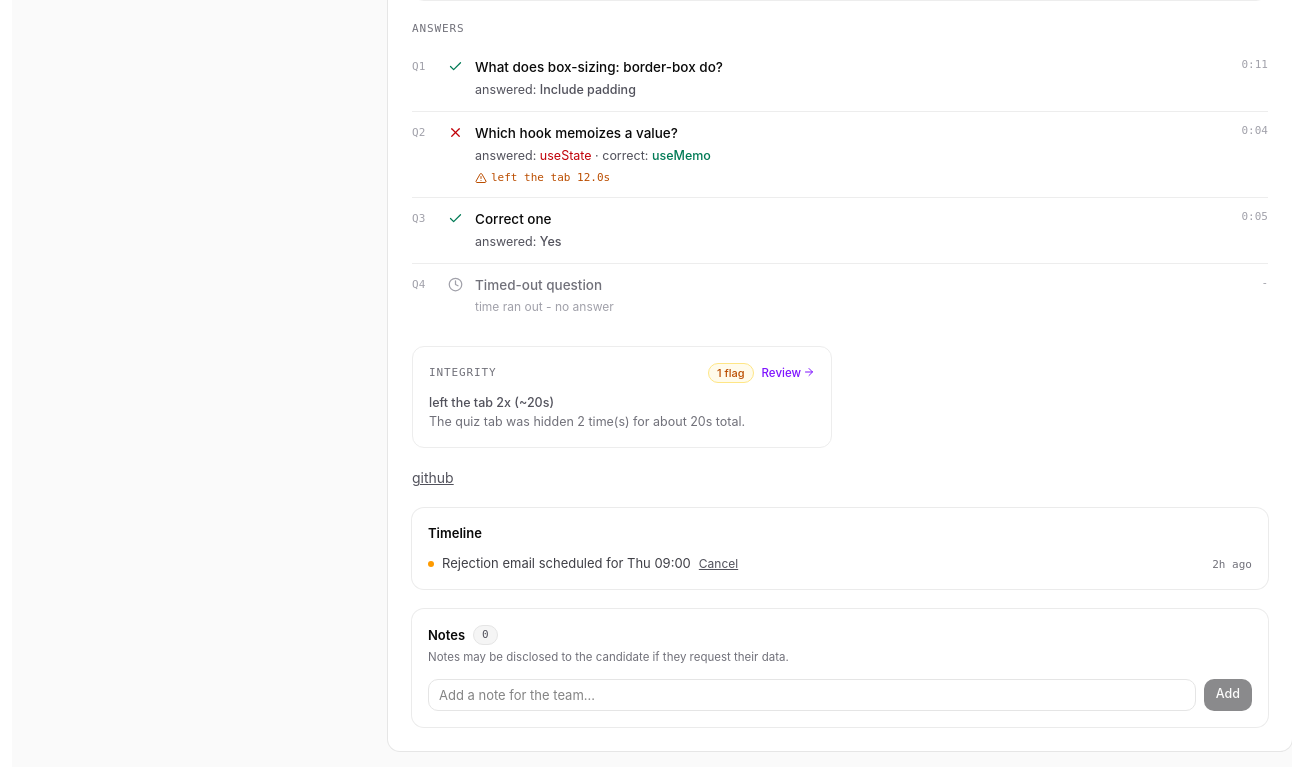
it: ApplicantsPage › brings Send rejection email back after the scheduled one is cancelled from the timeline
The width and height of the screenshot is (1304, 767).
(page scrolled)
Expected: the button "Send rejection email" is not shown
Click the button with aria-label "Cancel the scheduled rejection email". click: click(718, 564)
box: [699,555,738,573]
(page scrolled)
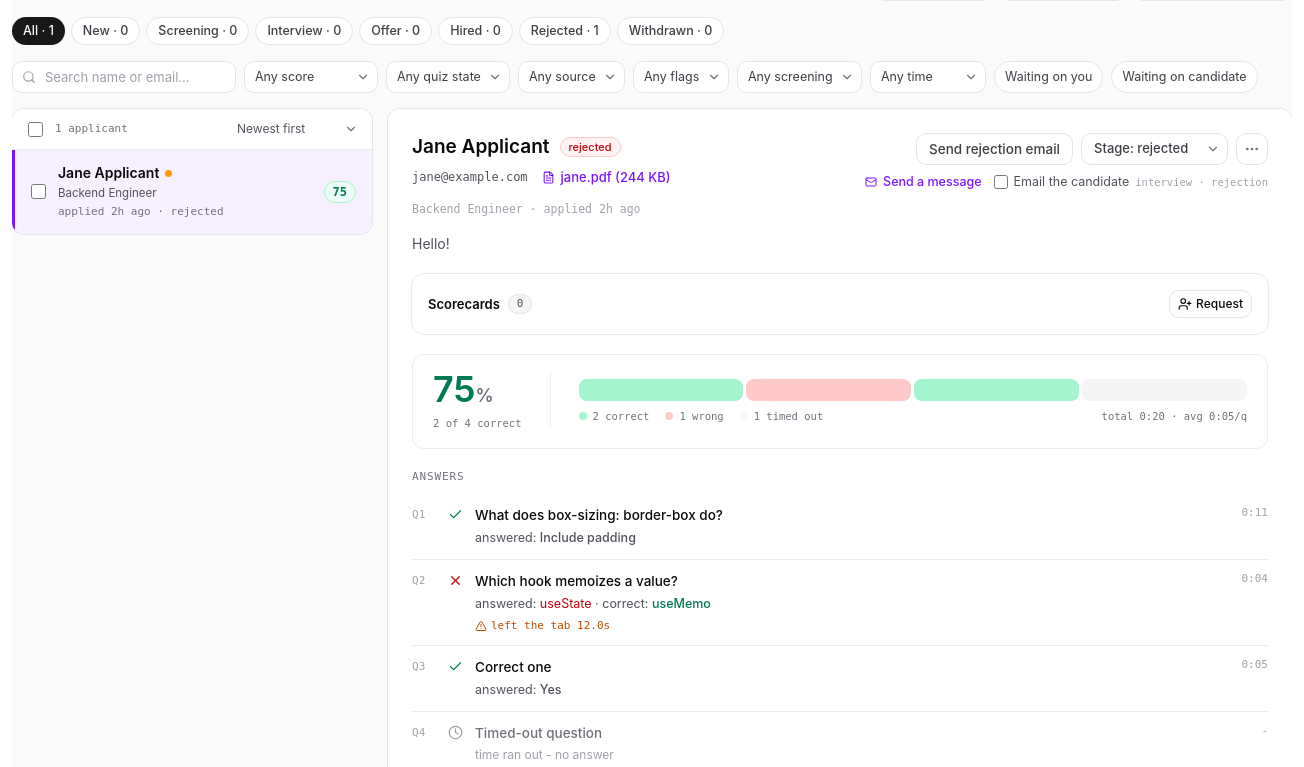
Expected: the button "Send rejection email" is shown, [916,133,1073,165]
